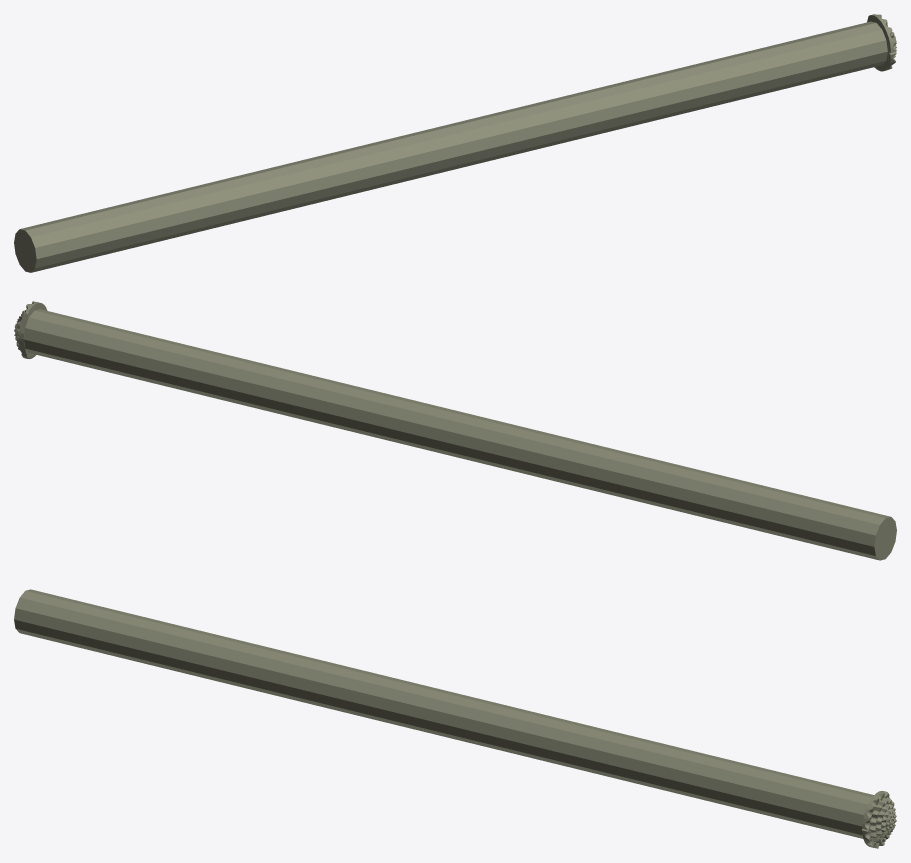
The model's file is stabilizer_near.obj.
The picture shows the model from 3 angles, top to bottom: view 1: azimuth 30°, elevation 25°; view 2: azimuth 150°, elevation 25°; view 3: azimuth 330°, elevation 25°; orthographic projection.
Size of the model in its own units: 0.557 by 0.032 by 0.0285.
Materials: 1 (1 with a texture image).
